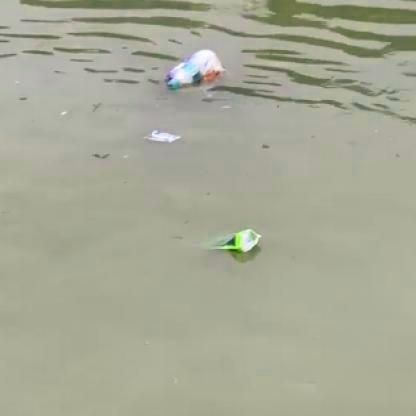Trash: (163, 48, 226, 93), (204, 224, 264, 257), (141, 124, 185, 147)
